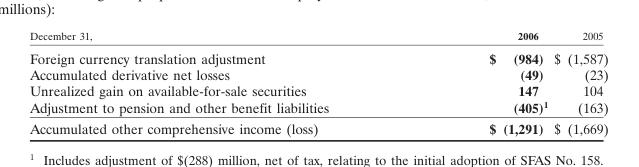table: (28, 29, 607, 136)
table column: (28, 29, 408, 136), (408, 29, 550, 136), (550, 29, 607, 136)
table column header: (28, 29, 607, 45)
table row: (28, 45, 607, 66), (28, 98, 607, 117), (28, 117, 607, 136), (28, 29, 607, 45), (28, 66, 607, 82), (28, 82, 607, 98)
